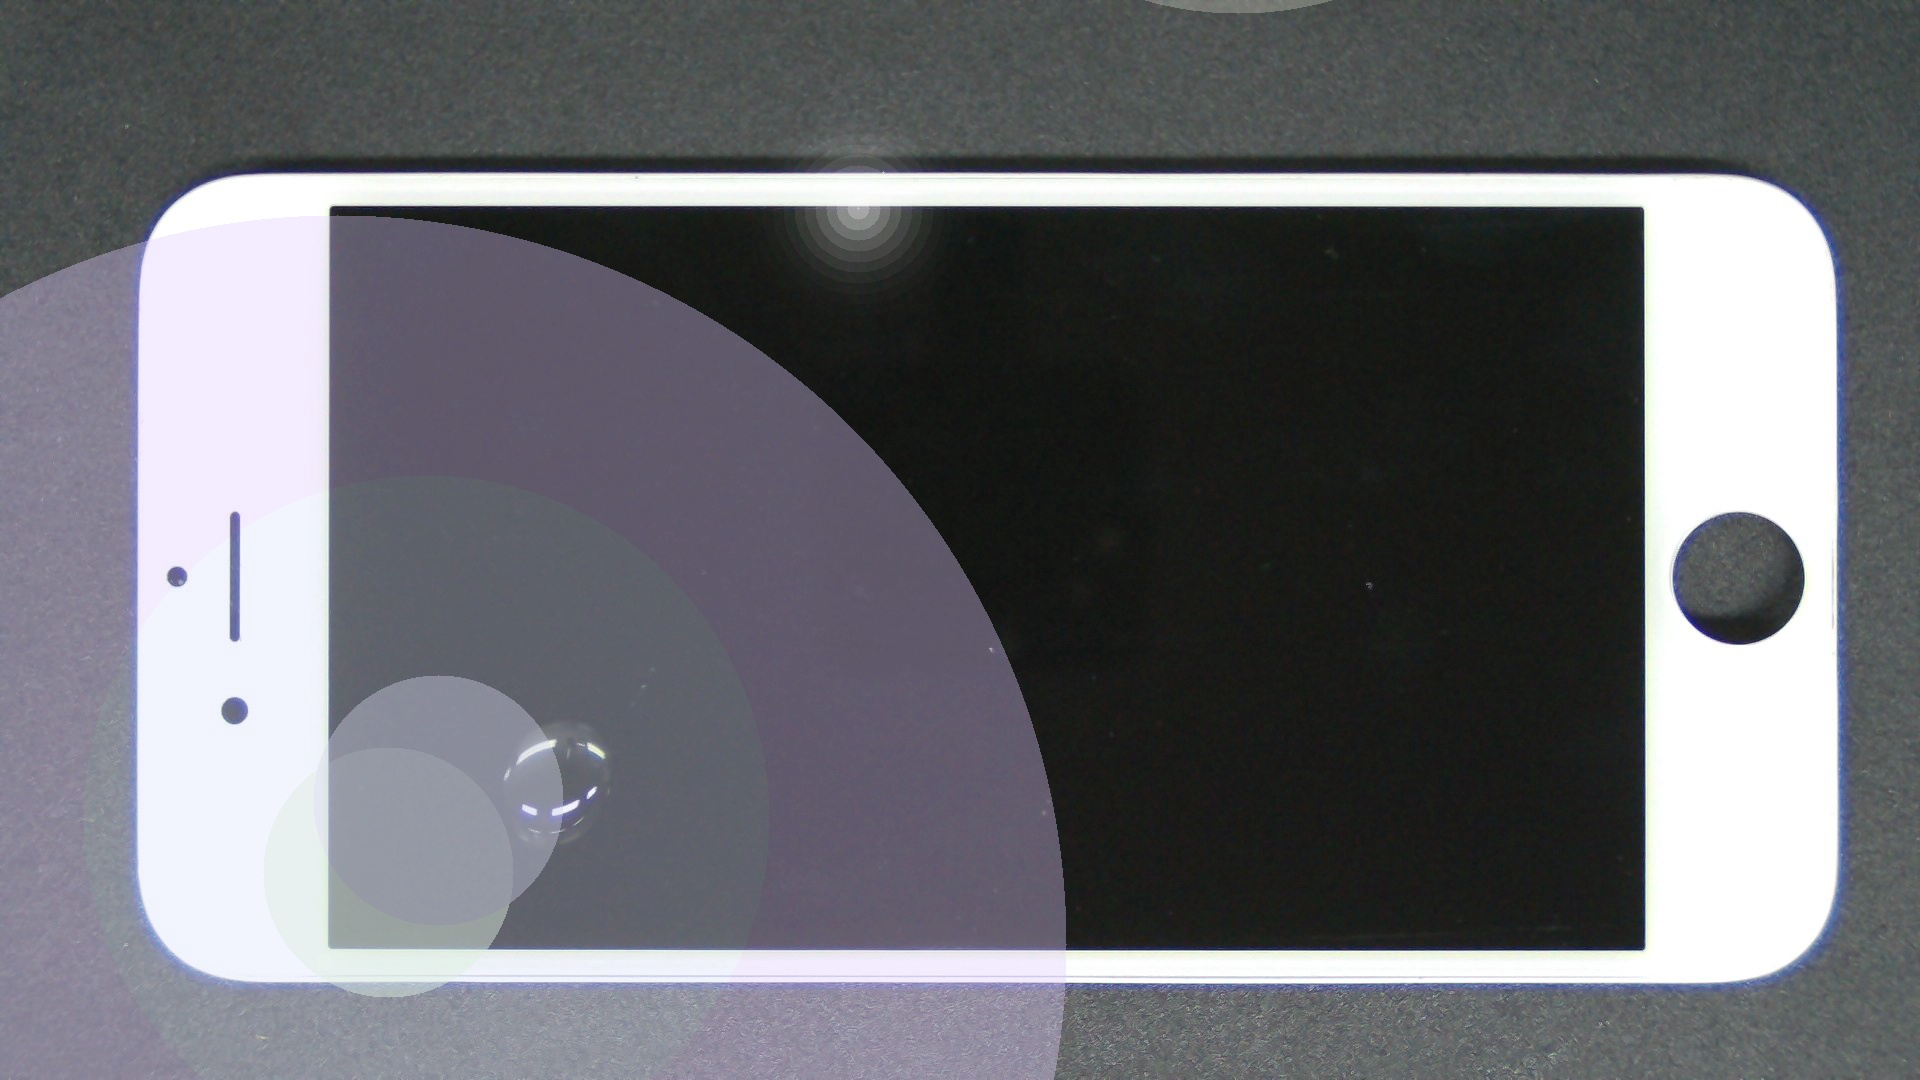oil: (282, 360, 845, 1080)
